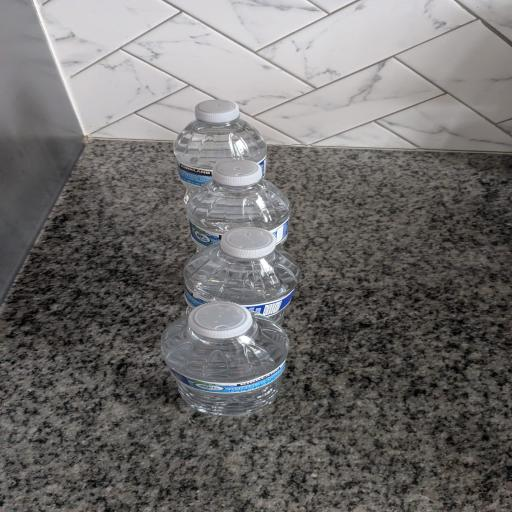waterbottle: (162, 302, 288, 415), (184, 228, 299, 323), (174, 100, 266, 203), (187, 160, 289, 247)
